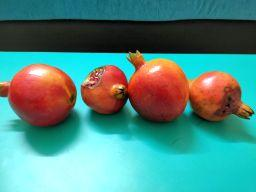pomegranate: (0, 63, 77, 126), (126, 50, 189, 123), (189, 71, 254, 121), (81, 65, 129, 115)
